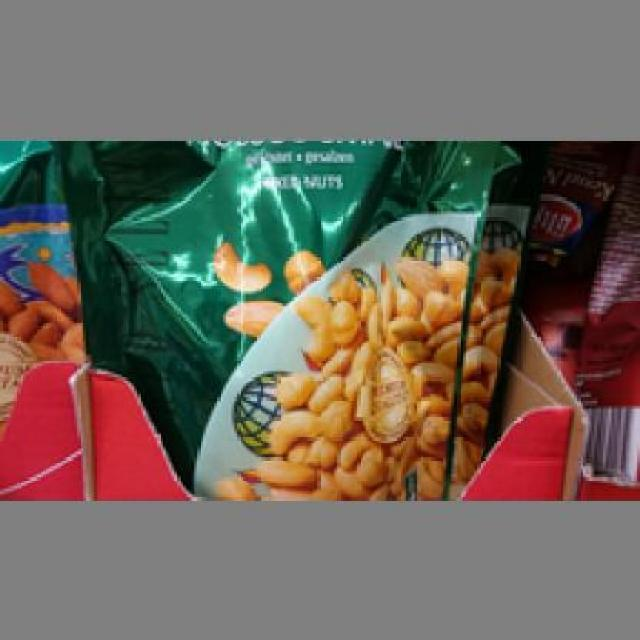Nuts: (51, 137, 498, 497)
